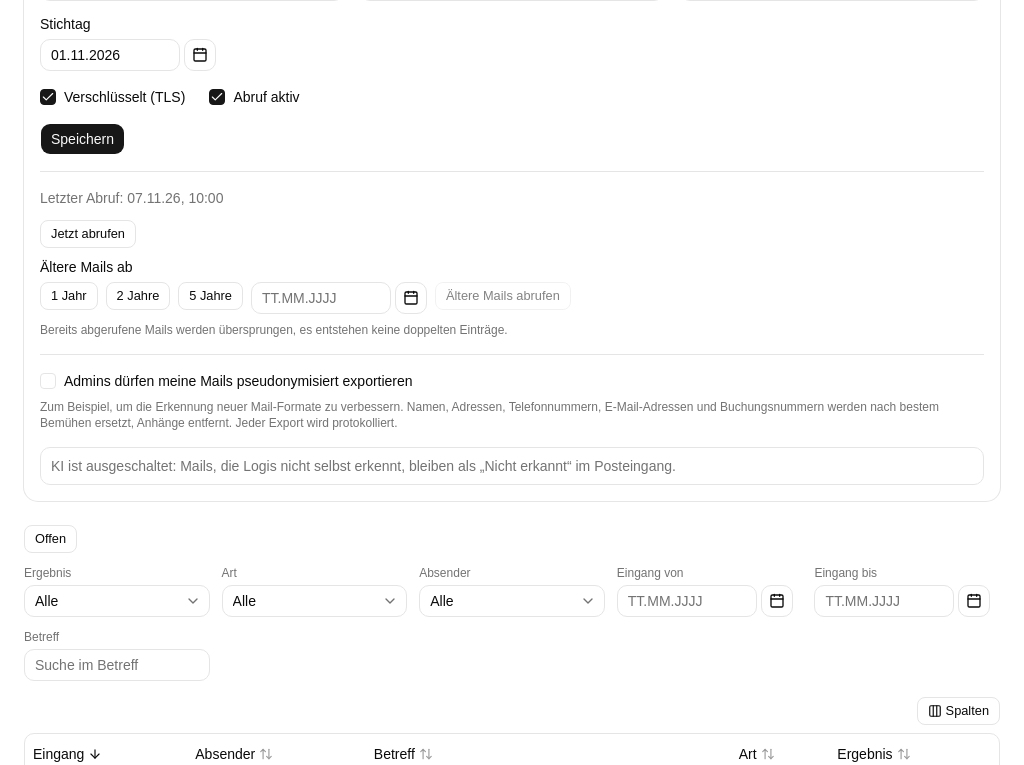
Test: Inbox › switches the consent to the admin export and shows the last export
(page scrolled)
Step 1. Click the checkbox named "Admins dürfen meine Mails pseudonymisiert exportieren" → (48, 381), box [40,373,56,389]
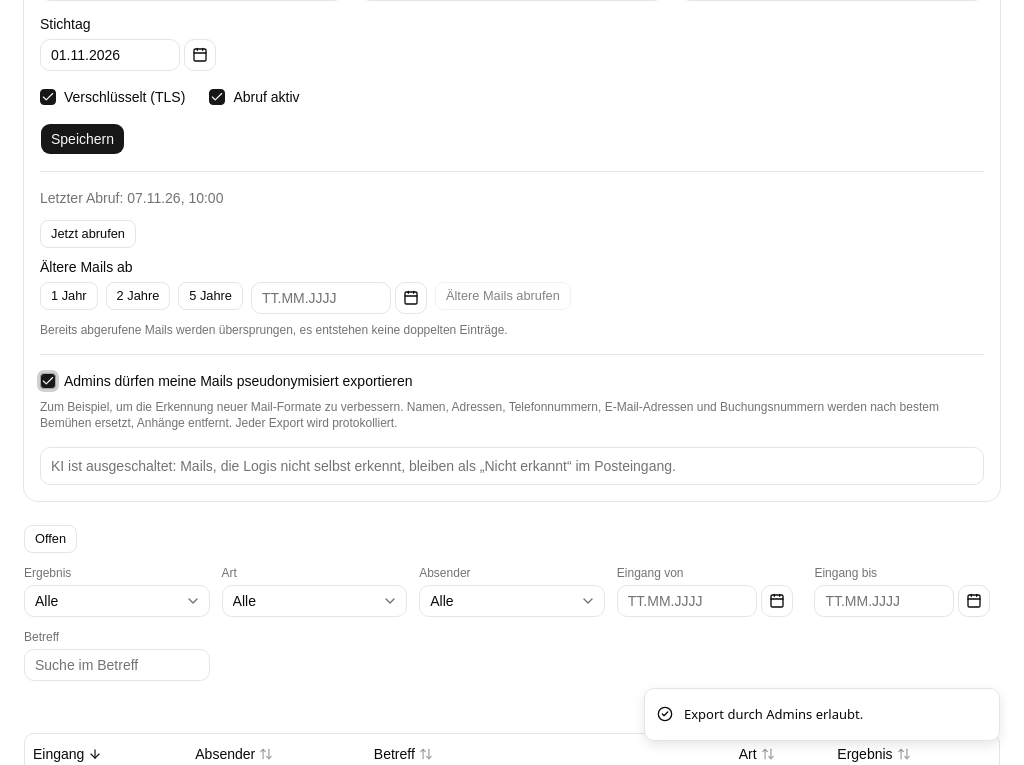
Check: the checkbox named "Admins dürfen meine Mails pseudonymisiert exportieren" is checked, box [40,373,56,389]
